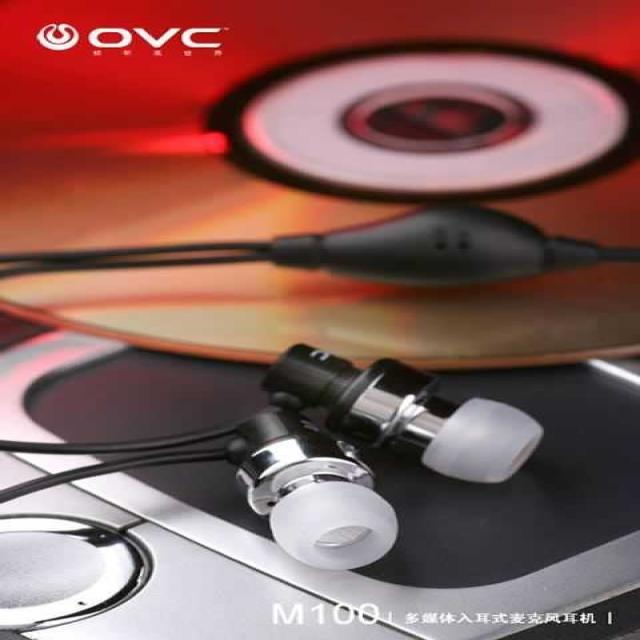microphone: (267, 344, 543, 480), (231, 418, 396, 570)
